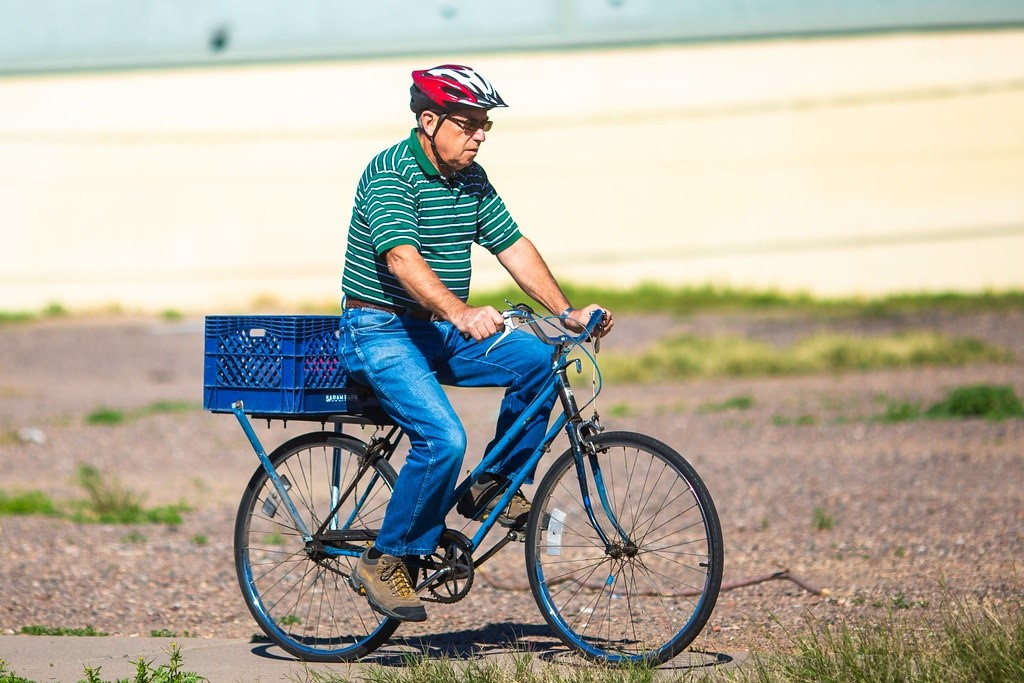face_no_mask: (408, 74, 486, 180)
